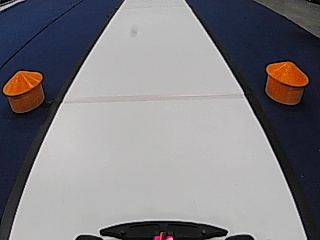granary: (264, 57, 310, 106), (2, 69, 46, 114)
